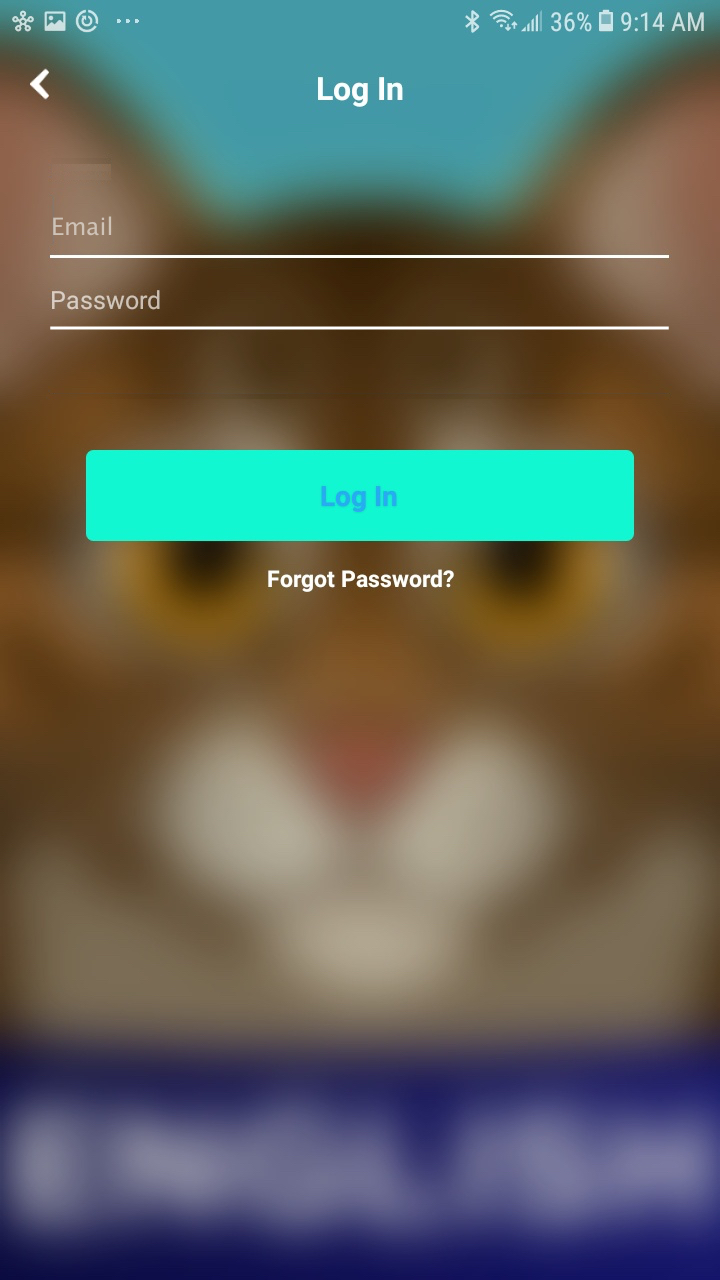BackgroundImage: (1, 35, 720, 1280)
EditText: (51, 216, 670, 260), (50, 290, 670, 332)
Icon: (30, 69, 51, 101)
Text: (268, 569, 455, 594), (318, 77, 404, 109), (52, 290, 161, 311), (54, 216, 113, 237)
TextButton: (86, 450, 635, 543)
UpperTaskBar: (1, 1, 720, 35)
